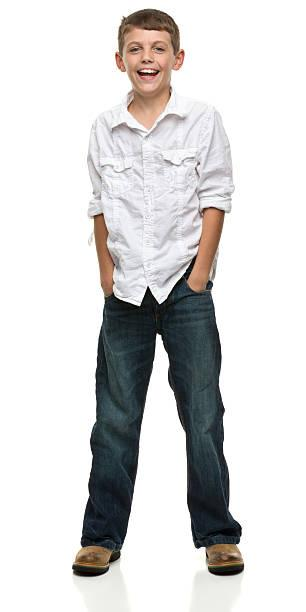Human: (51, 14, 281, 612)
